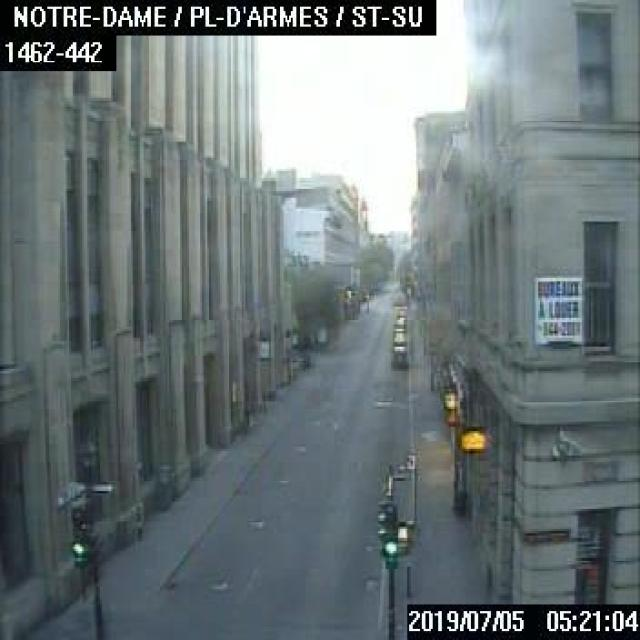vehicle: (390, 343, 408, 369), (392, 331, 406, 347)
